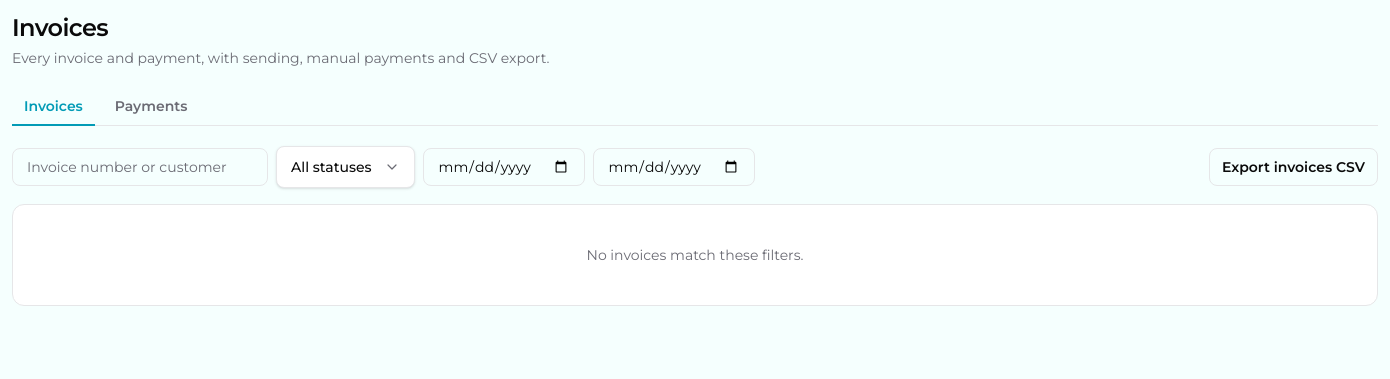
InvoicesScreen (GAP-028) › payments tab: empty and error states
Click the tab "Payments" at (151, 107), box [103, 88, 199, 126]
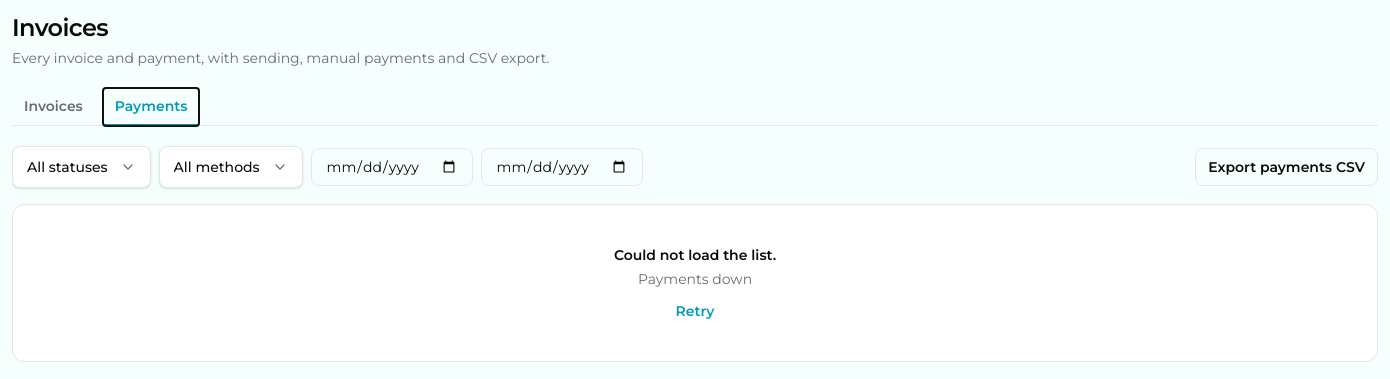
Result: the text "Payments down" is shown at [638, 270, 752, 288]
Click the button "Retry" at (695, 311), box [676, 301, 714, 321]
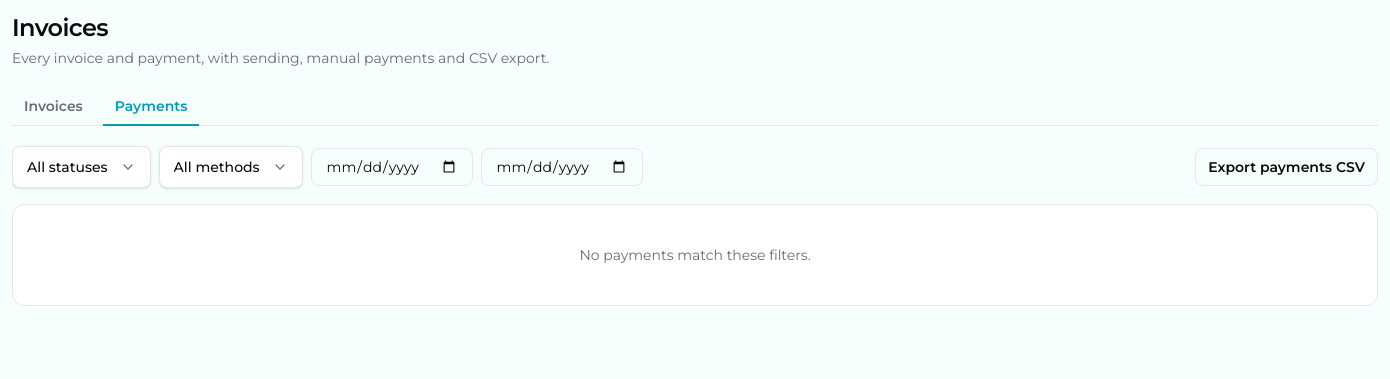
Result: the text "No payments match these filters." is shown at [579, 246, 811, 264]
